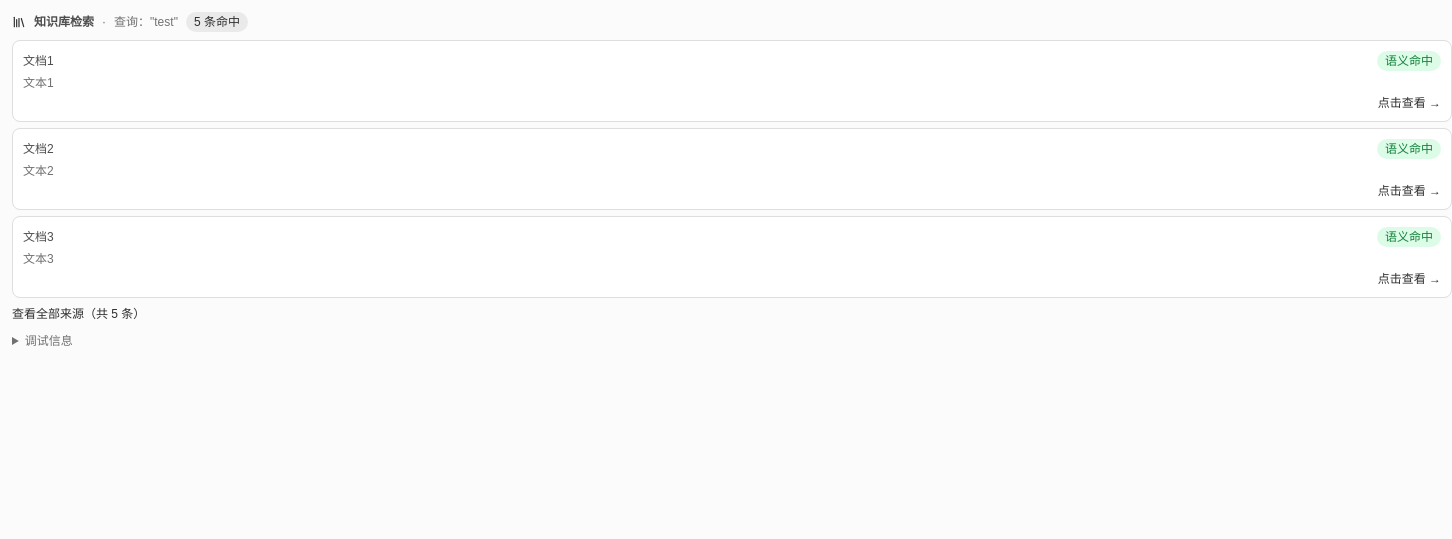
Test: KnowledgeSourceCard › expands to show all hits when clicking expand button
expect the text "文档1" is shown: met, box x1=23 y1=54 x2=54 y2=68
expect the text "文档3" is shown: met, box x1=23 y1=230 x2=54 y2=244
Click the button "查看全部来源（共 5 条）".
click(79, 314)  # box x1=12 y1=306 x2=145 y2=322
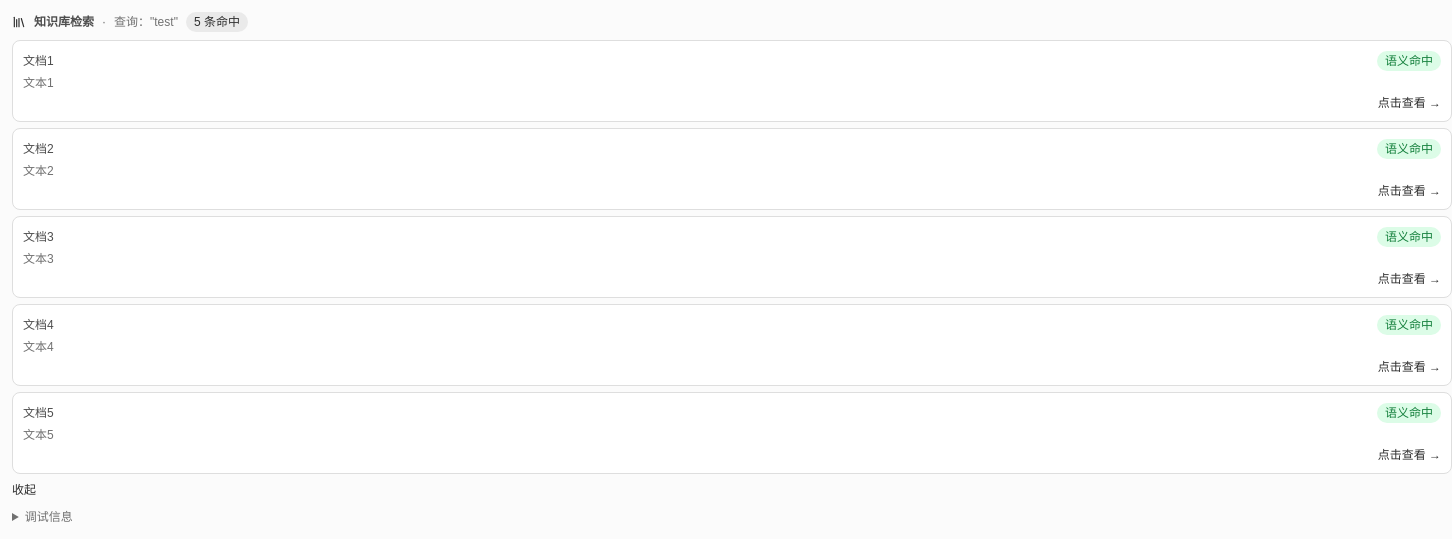
expect the text "文档4" is shown: met, box x1=23 y1=318 x2=54 y2=332
expect the text "文档5" is shown: met, box x1=23 y1=406 x2=54 y2=420
